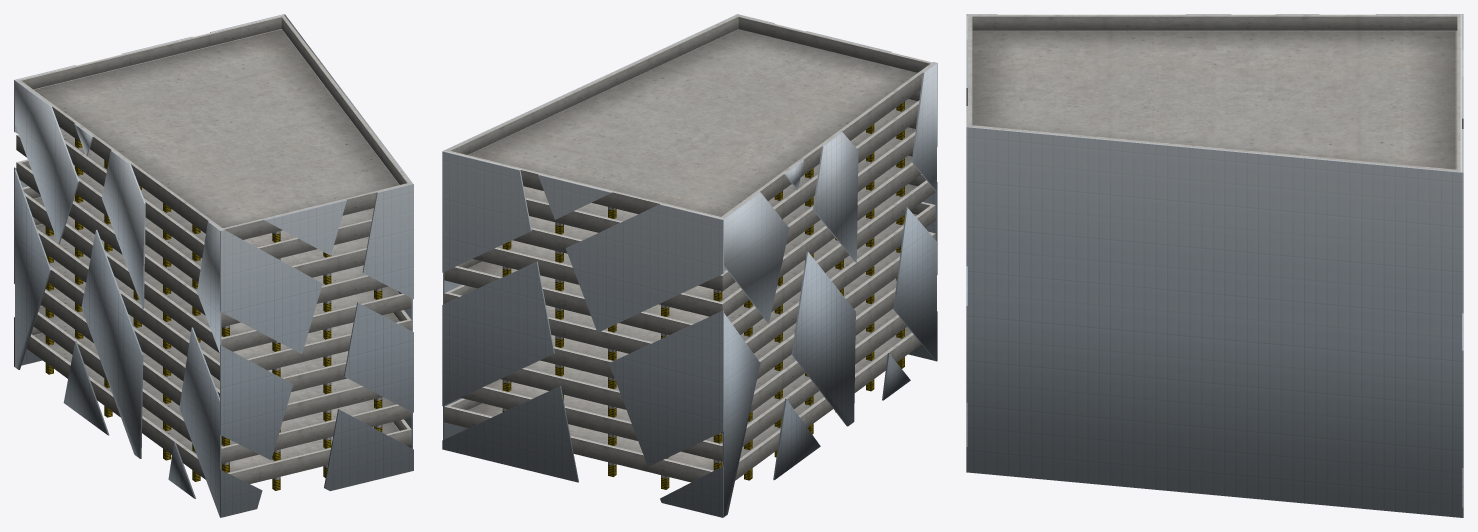
3 views of the same model, side by side, from view 1: azimuth 30°, elevation 25°; view 2: azimuth 150°, elevation 25°; view 3: azimuth 270°, elevation 25° (orthographic). The views are drawn at different scales.
Parts seen in each view (by area): view 1: MainBuilding; view 2: MainBuilding; view 3: MainBuilding.
Boxes of the visible parts, x1,y1,x2,y2 form: MainBuilding: [14, 14, 413, 517]; MainBuilding: [442, 14, 937, 517]; MainBuilding: [966, 14, 1463, 517].
Size of the model in its own units: 4.14 by 4.2 by 5.48.
Materials: 1 (1 with a texture image).
